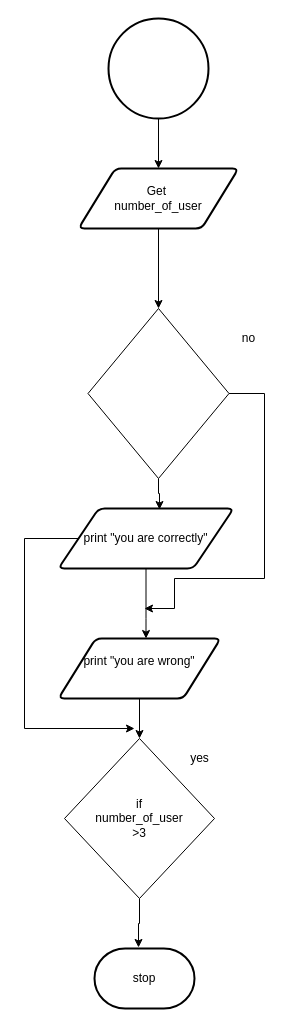
The diagram is 290 pixels wide and 1026 high, and some of its shapes have lost their labels. Each missing label, with the centre of its shape:
"if number_of_user >5" belongs at point (158, 393).
"start" belongs at point (158, 68).
